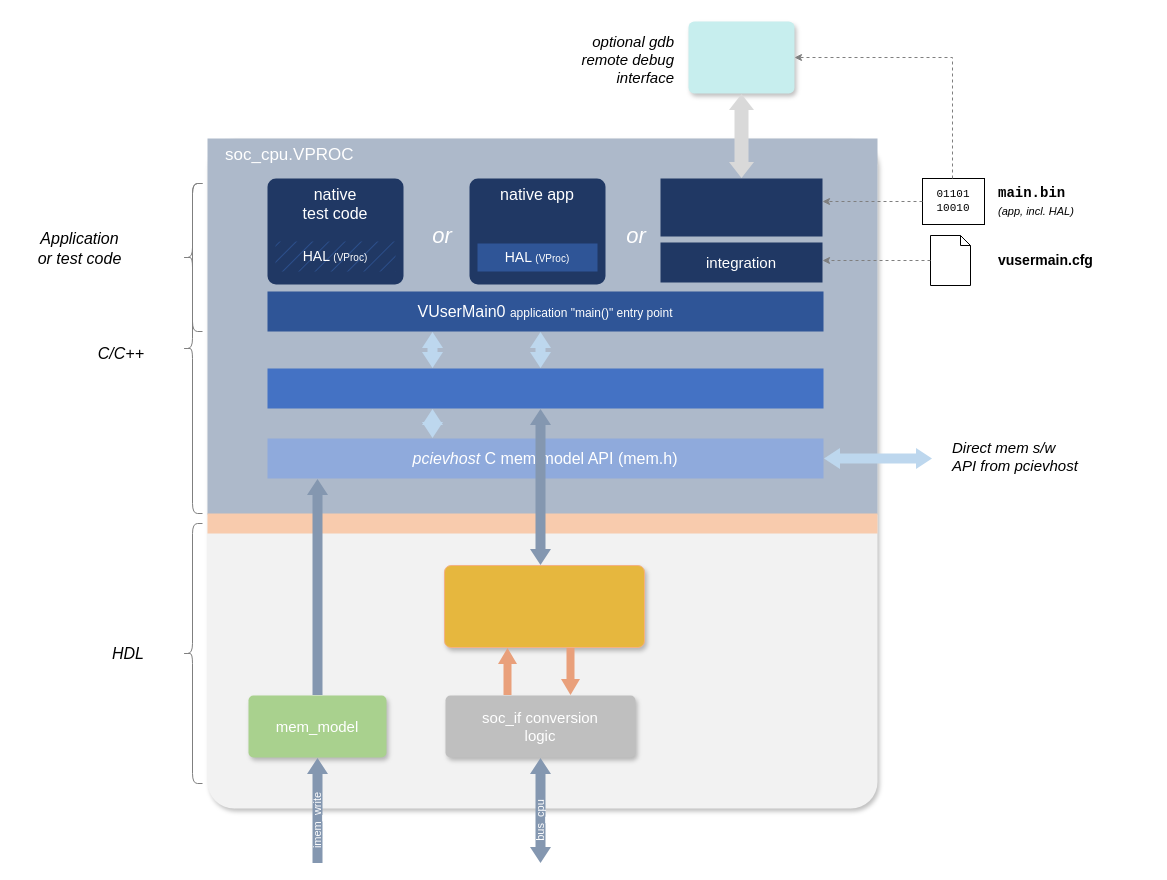
Image size: 1167x880. Some labels were removed from this diagram. The centre of each missing label's shape, as x and y in pixels:
"DPI-C" belongs at point 542,523.
"gdb" belongs at point 742,58.
"rv32 RISC-V ISS (librv32lnx.a)" belongs at point 741,207.
"VProc" belongs at point 545,607.
"VProc Software and API (C/C++)" belongs at point 545,388.
